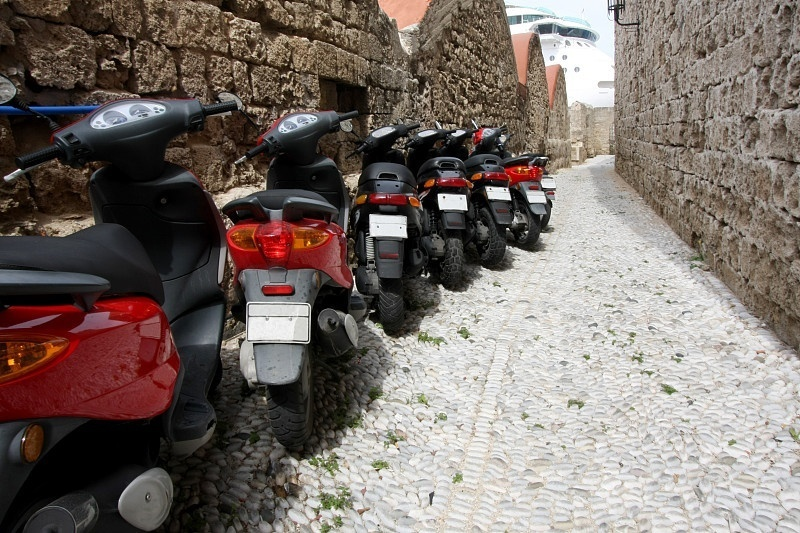non-vehicle: (17, 68, 208, 515), (227, 84, 349, 450), (350, 115, 423, 298), (405, 115, 479, 289), (445, 114, 505, 263), (480, 117, 545, 251)
